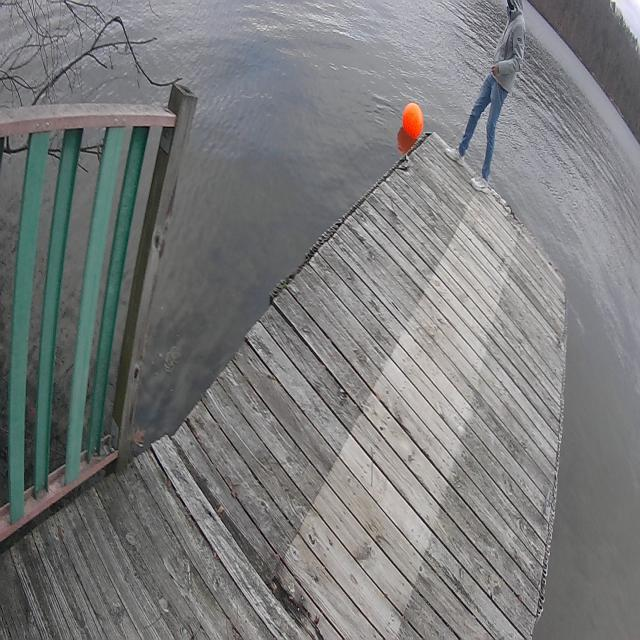Buoy: (400, 101, 424, 142)
